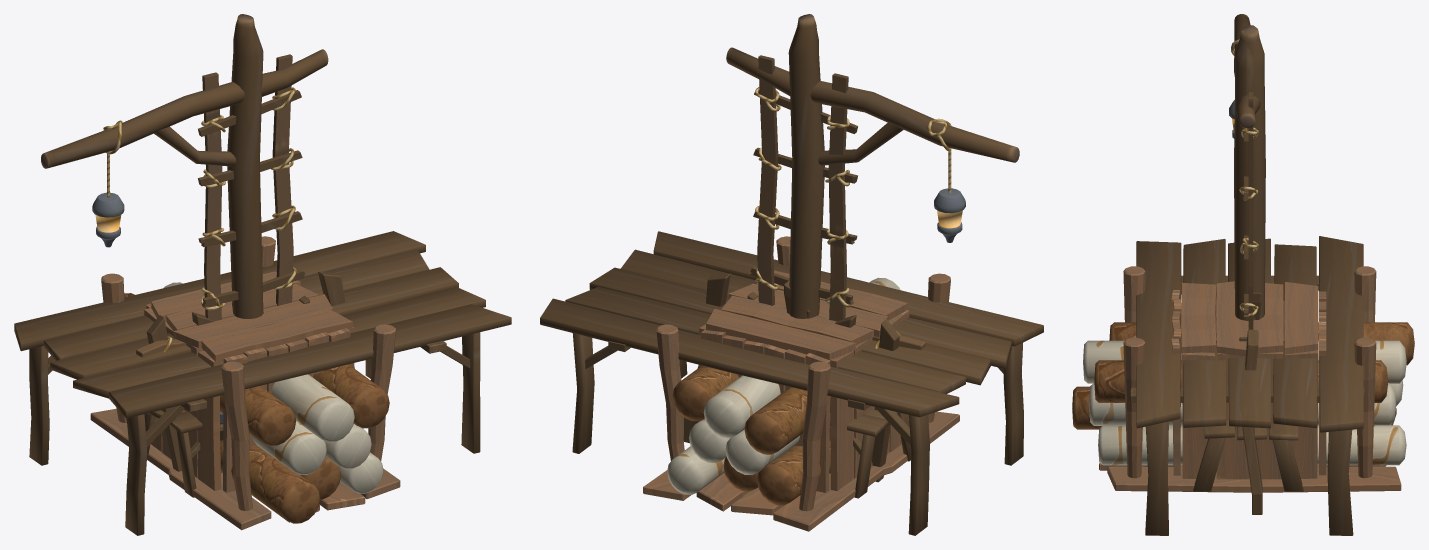
The model's file is props_mandeira_01.fbx.
3 views of the same model, side by side, from view 1: azimuth 30°, elevation 25°; view 2: azimuth 150°, elevation 25°; view 3: azimuth 270°, elevation 25° (orthographic). The views are drawn at different scales.
Parts seen in each view (by area): view 1: Mesa, Poste_Luminaria, Tronco, Caixa_Madeira, Base_tronco, Escada_Corda, Cerca_Torta, Cadeira; view 2: Mesa, Poste_Luminaria, Tronco, Caixa_Madeira, Base_tronco, Escada_Corda, Cerca_Torta, Cadeira; view 3: Mesa, Caixa_Madeira, Tronco, Base_tronco, Poste_Luminaria, Cadeira, Escada_Corda, Cerca_Torta.
Boxes of the visible parts, x1,y1,x2,y2 form: Mesa: [14, 231, 511, 535]; Poste_Luminaria: [41, 14, 328, 318]; Tronco: [124, 282, 389, 523]; Caixa_Madeira: [144, 271, 354, 492]; Base_tronco: [90, 236, 400, 530]; Escada_Corda: [198, 54, 305, 320]; Cerca_Torta: [136, 271, 363, 471]; Cadeira: [144, 410, 223, 497]; Mesa: [540, 231, 1043, 535]; Poste_Luminaria: [726, 14, 1019, 318]; Tronco: [667, 277, 900, 505]; Caixa_Madeira: [699, 270, 909, 492]; Base_tronco: [643, 236, 959, 531]; Escada_Corda: [750, 55, 857, 321]; Cerca_Torta: [683, 273, 925, 482]; Cadeira: [696, 406, 911, 498]; Mesa: [1130, 236, 1364, 535]; Caixa_Madeira: [1171, 281, 1326, 479]; Tronco: [1072, 322, 1414, 465]; Base_tronco: [1099, 266, 1401, 492]; Poste_Luminaria: [1229, 14, 1265, 320]; Cadeira: [1193, 420, 1303, 491]; Escada_Corda: [1239, 92, 1258, 329]; Cerca_Torta: [1234, 279, 1262, 514].
Bounding box in the file's own units: 294 × 305 × 214.
